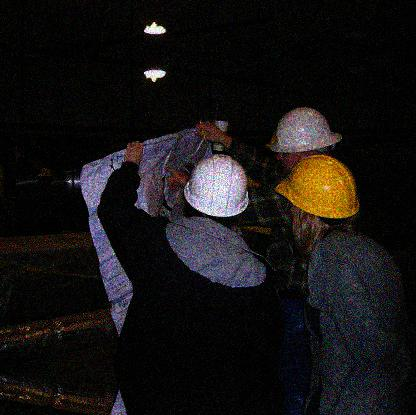helmet: (275, 154, 360, 251), (185, 154, 250, 239), (264, 108, 342, 172)
